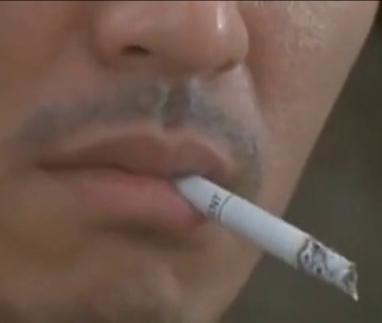Cigarette: (176, 172, 358, 300)
